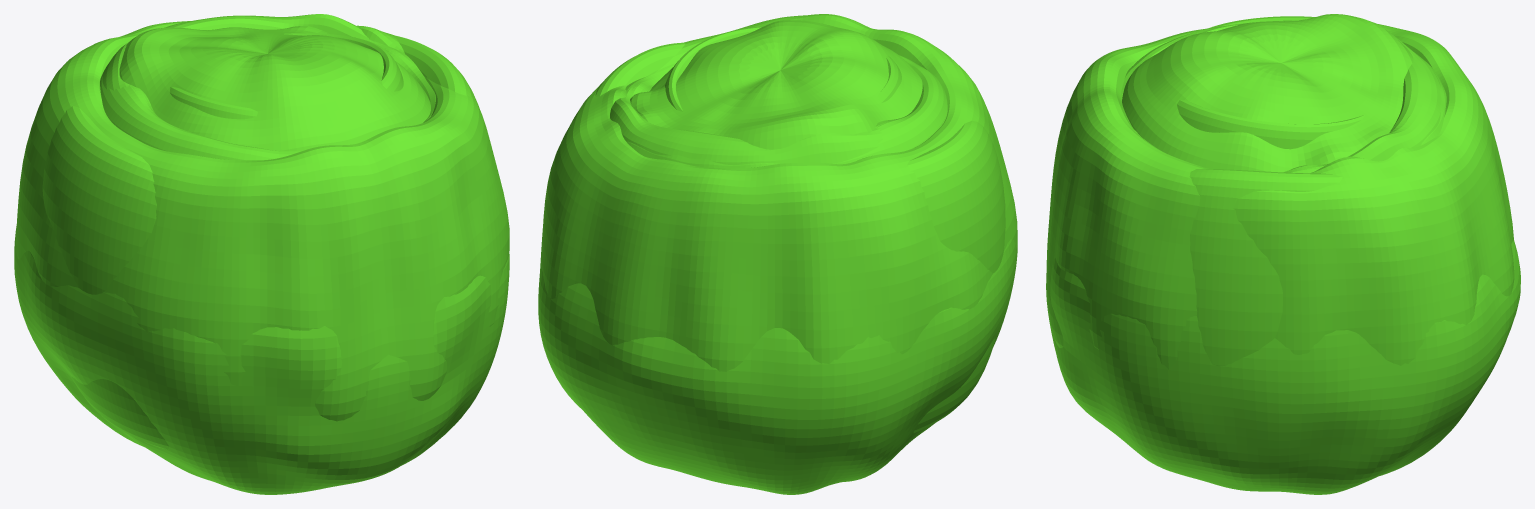
Rendered from lettuce.fbx.
3 views of the same model, side by side, from view 1: azimuth 30°, elevation 25°; view 2: azimuth 150°, elevation 25°; view 3: azimuth 270°, elevation 25° (orthographic). The views are drawn at different scales.
Parts seen in each view (by area): view 1: Torus.000; view 2: Torus.000; view 3: Torus.000.
Part boxes in pixels (x1=…): Torus.000: x1=14, y1=14, x2=509, y2=494; Torus.000: x1=538, y1=14, x2=1017, y2=494; Torus.000: x1=1046, y1=14, x2=1520, y2=494.
Size of the model in its own units: 205 by 200 by 211.
